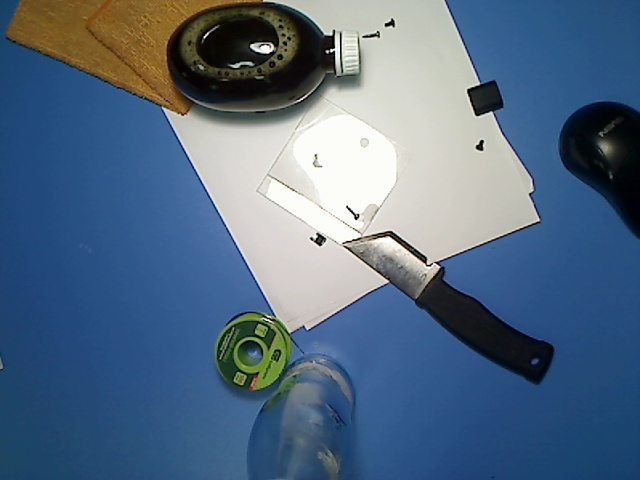plast_bottle: (161, 1, 364, 117)
